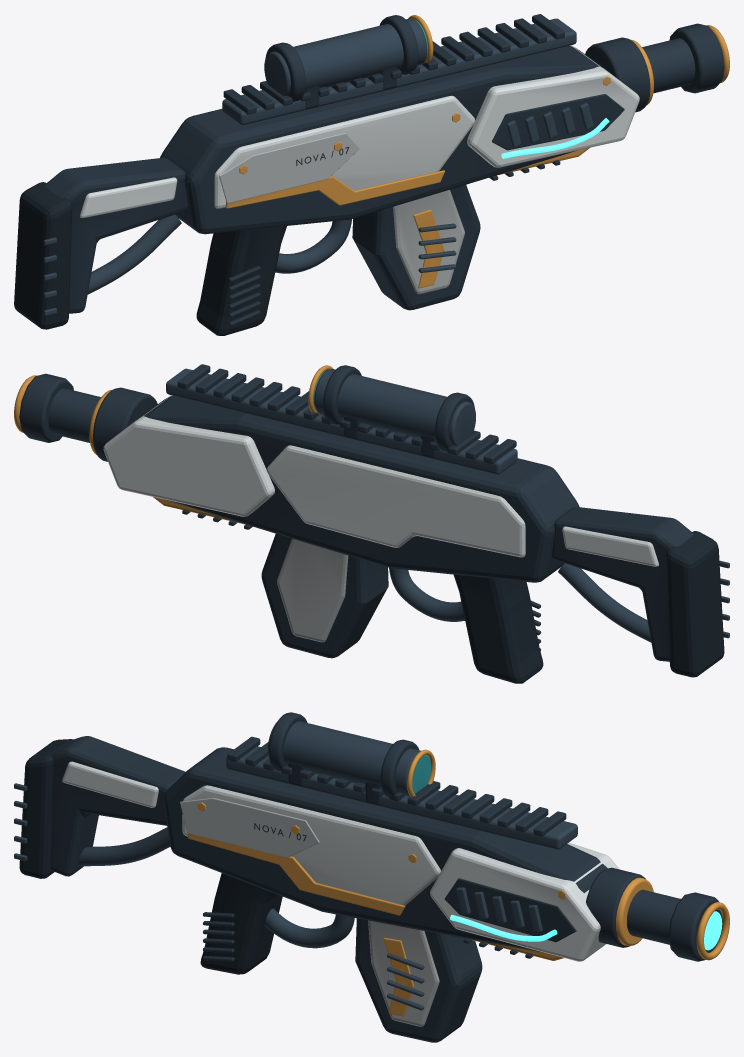
The picture shows the model from 3 angles, top to bottom: view 1: azimuth 30°, elevation 25°; view 2: azimuth 150°, elevation 25°; view 3: azimuth 330°, elevation 25°; orthographic projection.
Visible parts, largest first — view 1: Estrutura de grafite · estrutura, Placas cerâmicas · carcaca, Estrutura de grafite · estrutura__aço, Estrutura de grafite · estrutura__empunhadura, Placas cerâmicas · carcaca__chanfros, Ligas de cobre · detalhes, Lentes e energia · energia; view 2: Estrutura de grafite · estrutura, Placas cerâmicas · carcaca, Estrutura de grafite · estrutura__aço, Estrutura de grafite · estrutura__empunhadura, Placas cerâmicas · carcaca__chanfros, Ligas de cobre · detalhes; view 3: Estrutura de grafite · estrutura, Placas cerâmicas · carcaca, Estrutura de grafite · estrutura__aço, Placas cerâmicas · carcaca__chanfros, Estrutura de grafite · estrutura__empunhadura, Ligas de cobre · detalhes, Lentes e energia · energia.
Part boxes in pixels (left/top/right/bottom): Estrutura de grafite · estrutura: left=45, top=14, right=724, bottom=326; Placas cerâmicas · carcaca: left=80, top=45, right=639, bottom=218; Estrutura de grafite · estrutura__aço: left=43, top=18, right=695, bottom=315; Estrutura de grafite · estrutura__empunhadura: left=14, top=182, right=286, bottom=335; Placas cerâmicas · carcaca__chanfros: left=219, top=132, right=464, bottom=294; Ligas de cobre · detalhes: left=226, top=15, right=729, bottom=288; Lentes e energia · energia: left=501, top=118, right=609, bottom=158; Estrutura de grafite · estrutura: left=19, top=364, right=693, bottom=661; Placas cerâmicas · carcaca: left=103, top=395, right=658, bottom=566; Estrutura de grafite · estrutura__aço: left=48, top=368, right=729, bottom=642; Estrutura de grafite · estrutura__empunhadura: left=453, top=531, right=724, bottom=683; Placas cerâmicas · carcaca__chanfros: left=277, top=538, right=348, bottom=642; Ligas de cobre · detalhes: left=14, top=365, right=333, bottom=524; Estrutura de grafite · estrutura: left=50, top=712, right=722, bottom=1042; Placas cerâmicas · carcaca: left=62, top=761, right=619, bottom=961; Estrutura de grafite · estrutura__aço: left=14, top=721, right=680, bottom=1010; Placas cerâmicas · carcaca__chanfros: left=180, top=798, right=439, bottom=1026; Estrutura de grafite · estrutura__empunhadura: left=19, top=739, right=282, bottom=974; Ligas de cobre · detalhes: left=188, top=749, right=729, bottom=1016; Lentes e energia · energia: left=450, top=911, right=722, bottom=950.
Bounding box in the file's own units: 5.32 × 2.1 × 0.687.
